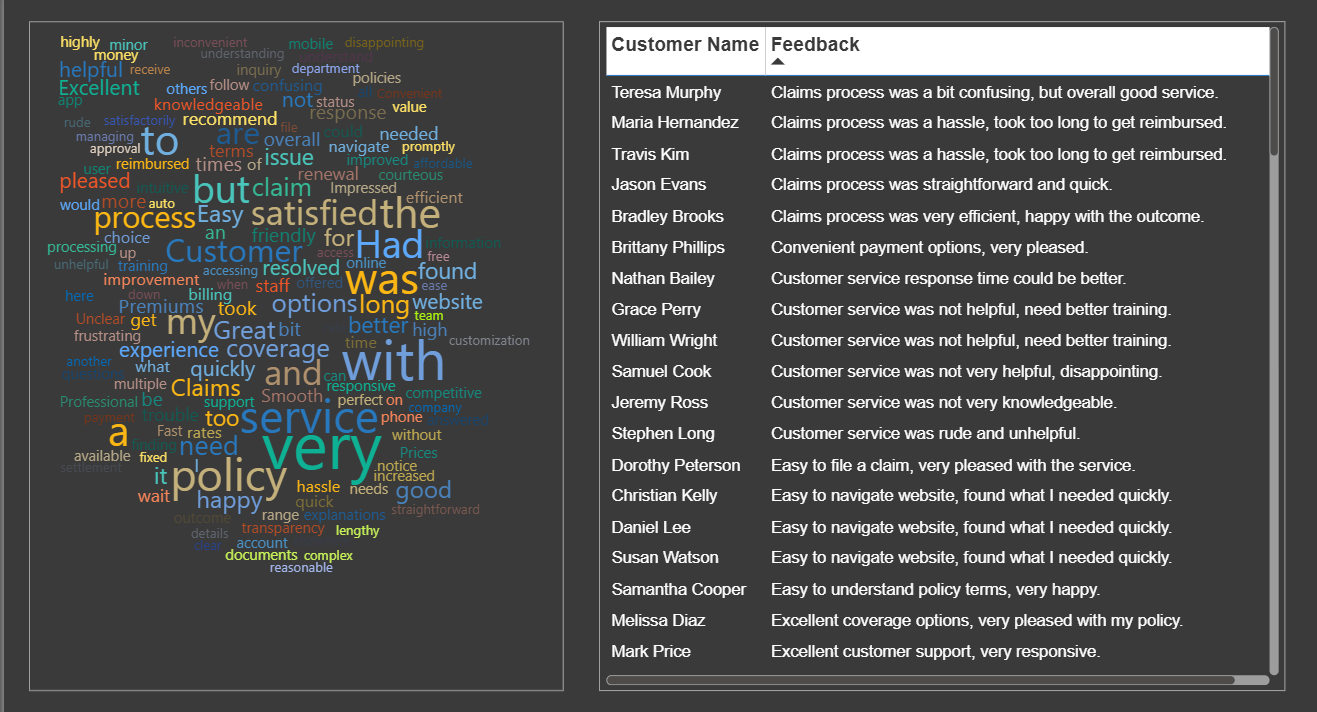

The dashboard page shown, as its layout file describes it:
{"tool":"powerbi","page":{"name":"Page 3","canvas":[1280,720],"ordinal":2},"visuals":[{"type":"WordCloud1447959067750","fields":{"Category":["Sheet1.Feedback"],"Values":["Sheet1.Feedback"]},"box":[24.1,30.2,516.4,646.7],"z":0},{"type":"tableEx","fields":{"Values":["Sheet1.Customer Name","Sheet1.Feedback"]},"box":[574.3,30.2,662.3,646.7],"z":1}]}

Visuals, with their boxes on the page's 1280x720 design canvas (x1, y1, x2, y2). These are canvas units, not pixel positions in the 1317x712 screenshot, which may show the page scaled, cropped or inside an application window:
WordCloud1447959067750 - Sheet1.Feedback x Sheet1.Feedback: bbox(24, 30, 540, 677)
tableEx - Sheet1.Customer Name x Sheet1.Feedback: bbox(574, 30, 1237, 677)
